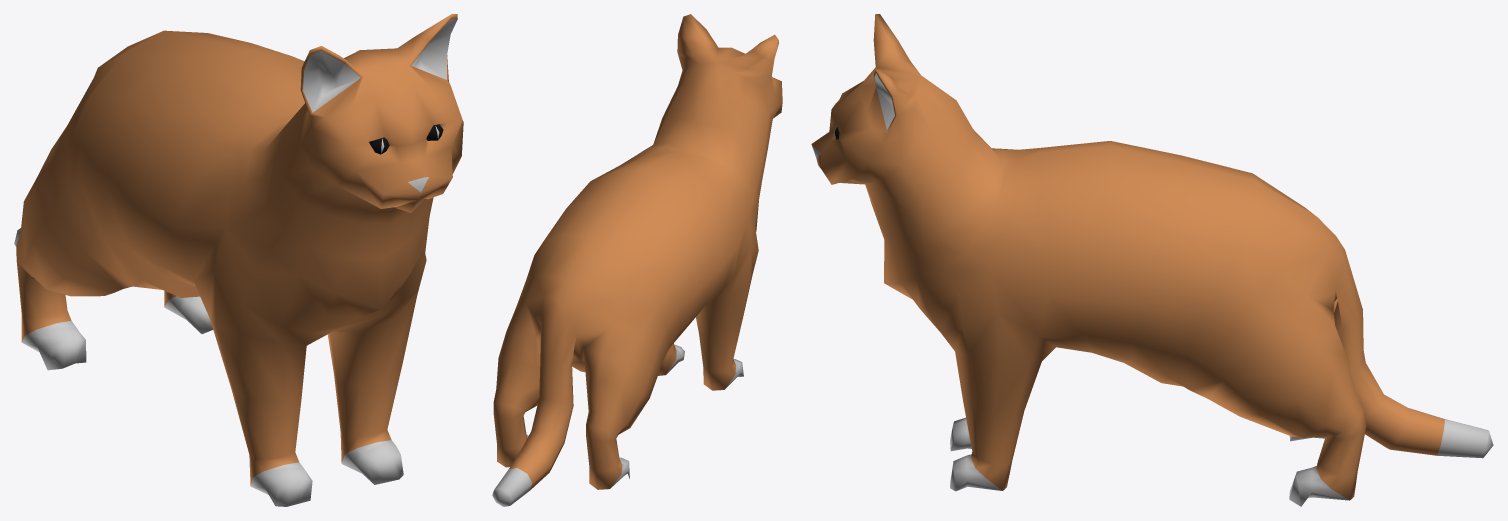
The picture shows the model from 3 angles, left to right: view 1: azimuth 30°, elevation 25°; view 2: azimuth 150°, elevation 25°; view 3: azimuth 270°, elevation 25°; orthographic projection. The views are drawn at different scales.
Visible parts, largest first — view 1: cat; view 2: cat; view 3: cat.
Boxes of the visible parts, x1=… form: cat: x1=14, y1=14, x2=463, y2=506; cat: x1=492, y1=14, x2=782, y2=506; cat: x1=811, y1=14, x2=1493, y2=506.
Bounding box in the file's own units: 0.1471 × 0.2969 × 0.4287.
